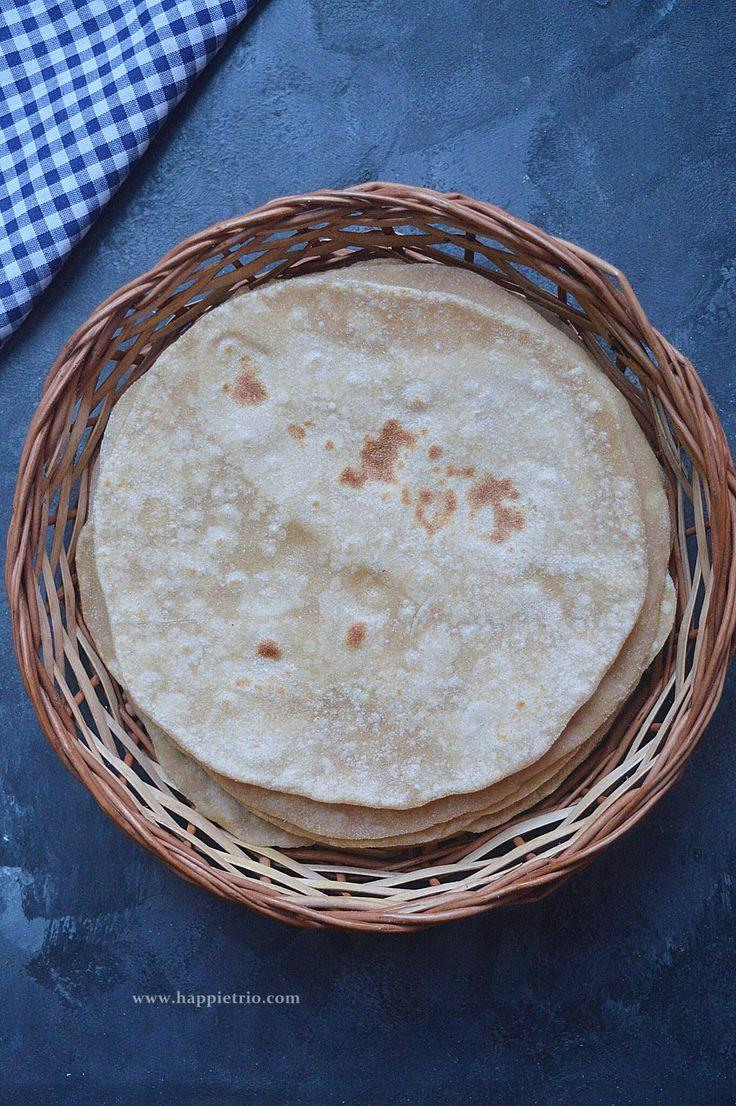roti phulka: (80, 254, 680, 856)
